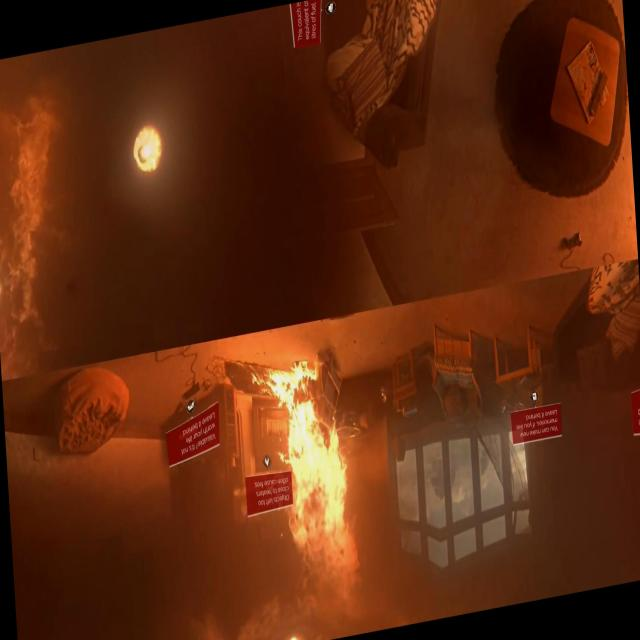fire: (267, 357, 365, 616)
